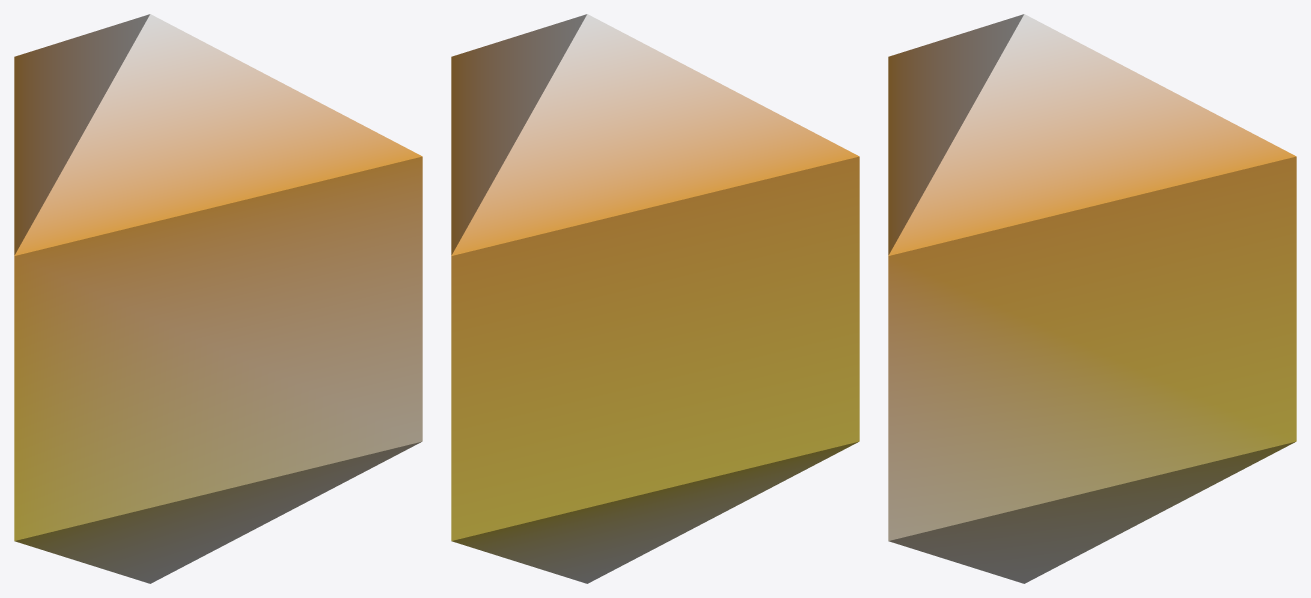
File: girth_alsooddcrystal.glb
3 views of the same model, side by side, from view 1: azimuth 30°, elevation 25°; view 2: azimuth 150°, elevation 25°; view 3: azimuth 270°, elevation 25° (orthographic).
Parts seen in each view (by area): view 1: Sphere; view 2: Sphere; view 3: Sphere.
Boxes of the visible parts, box(x1,y1,x2,y2) form: Sphere: box(14, 14, 422, 583); Sphere: box(451, 14, 859, 583); Sphere: box(888, 14, 1296, 583).
Size of the model in its own units: 1.5 by 2 by 1.3.
